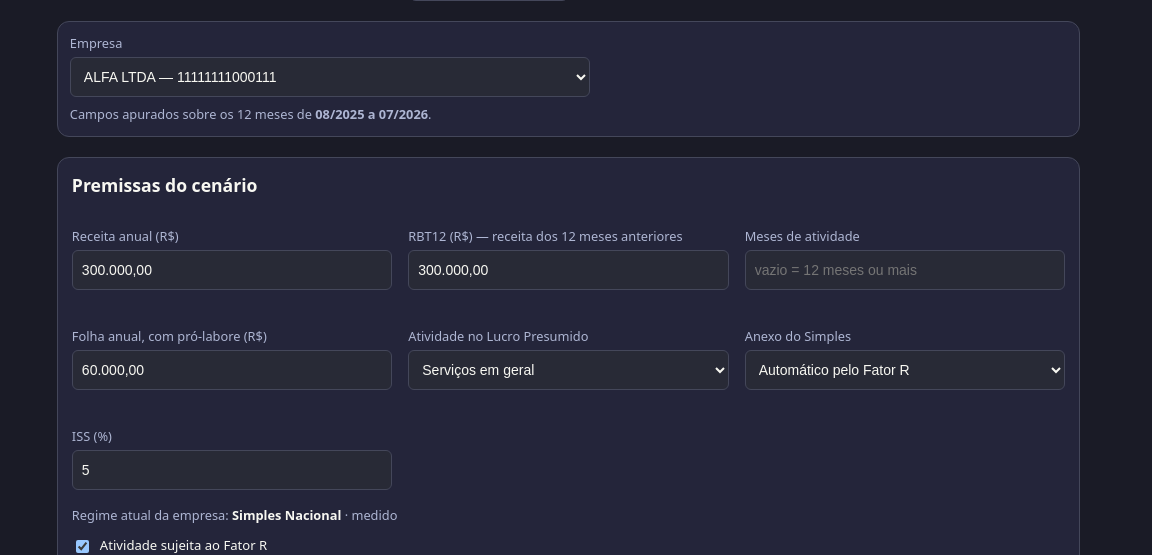
Test: usa ISS 5 sem valor cadastrado e reabre anexo manual e ISS editado
The width and height of the screenshot is (1152, 555).
Expected: the field showing "300.000,00" is shown, 72,250 -> 392,290
Expected: the field labelled "ISS (%)" holds "5", 72,450 -> 392,490
Select "Anexo IV — Serviços (§ 5º-C)" in the dropdown labelled "Anexo do Simples" at [905, 370], box 745,350 -> 1065,390
Type "4" into the field labelled "ISS (%)" at [232, 470], box 72,450 -> 392,490
(page scrolled)
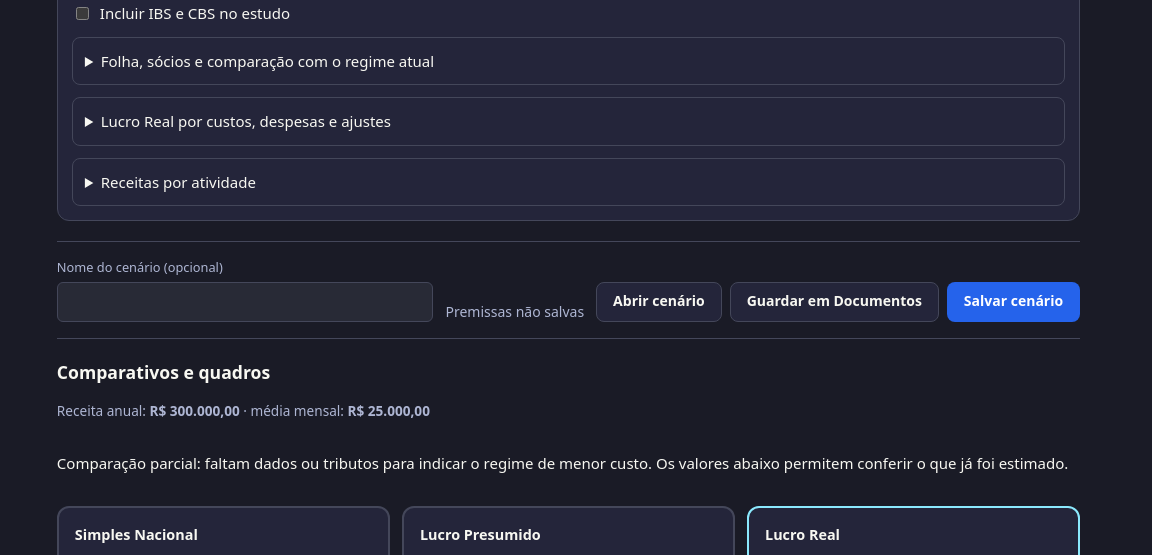
Click the button "Salvar cenário" at [1014, 302], box 947,282 -> 1080,322
(page scrolled)
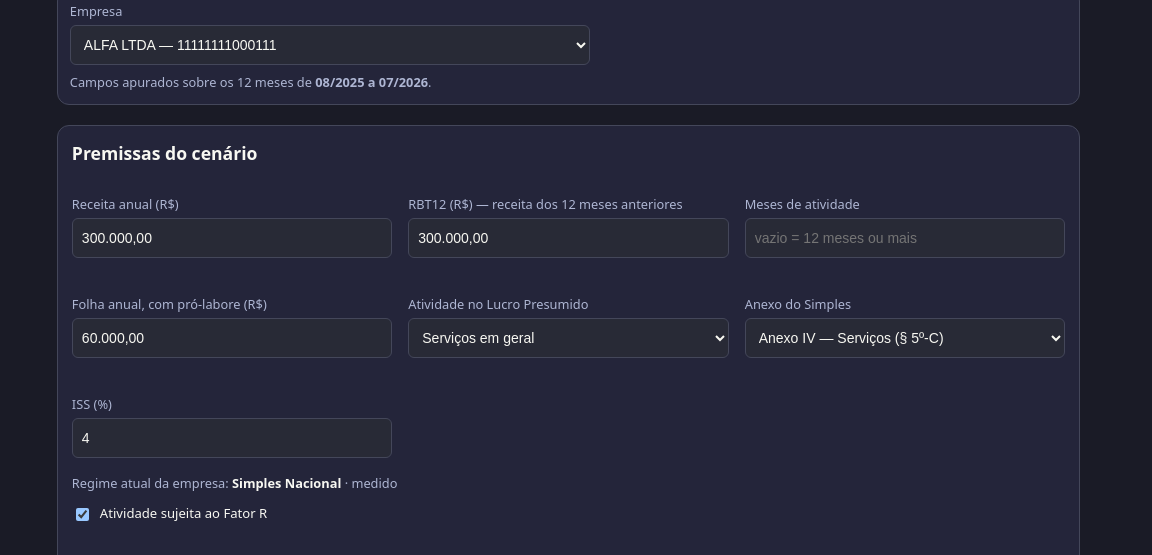
Select "Automático pelo Fator R" in the dropdown labelled "Anexo do Simples" at [905, 338], box 745,318 -> 1065,358
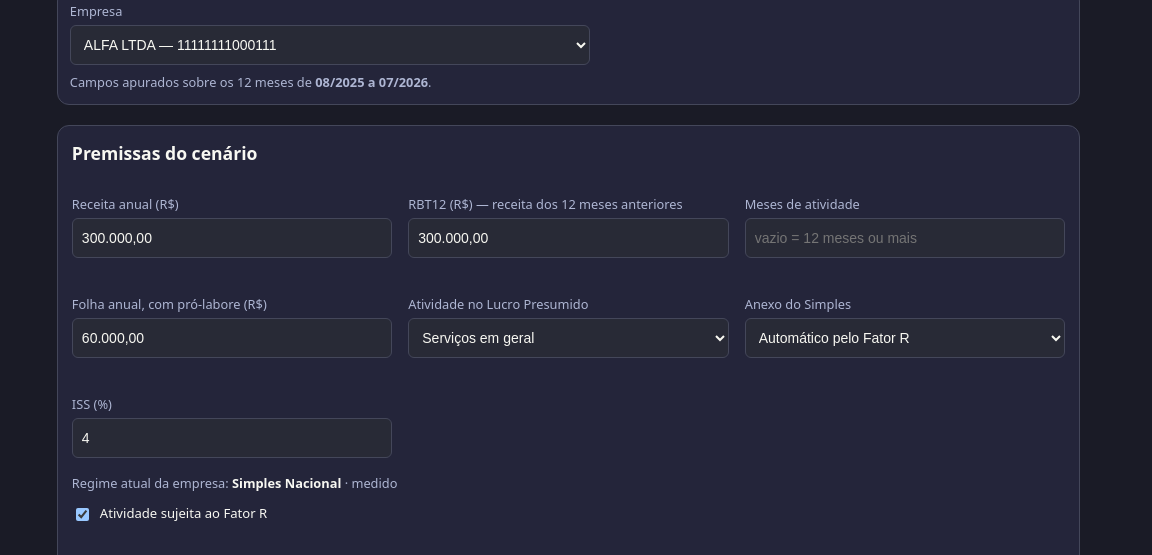
Replace the text in the field labelled "ISS (%)" with "2" at [232, 438], box 72,418 -> 392,458
(page scrolled)
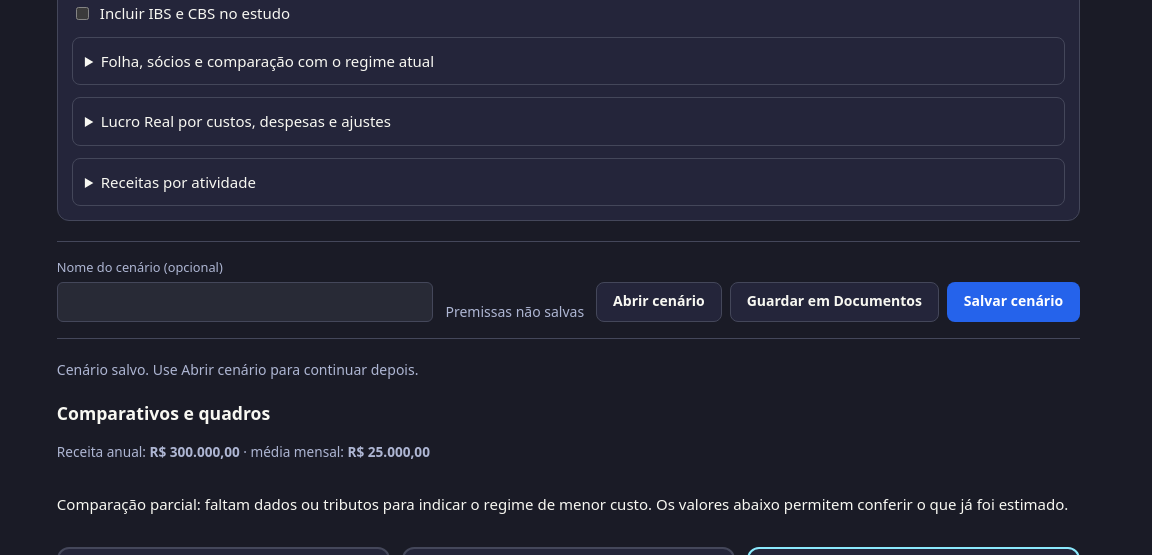
Click the button "Abrir cenário" at [659, 302], box 596,282 -> 722,322
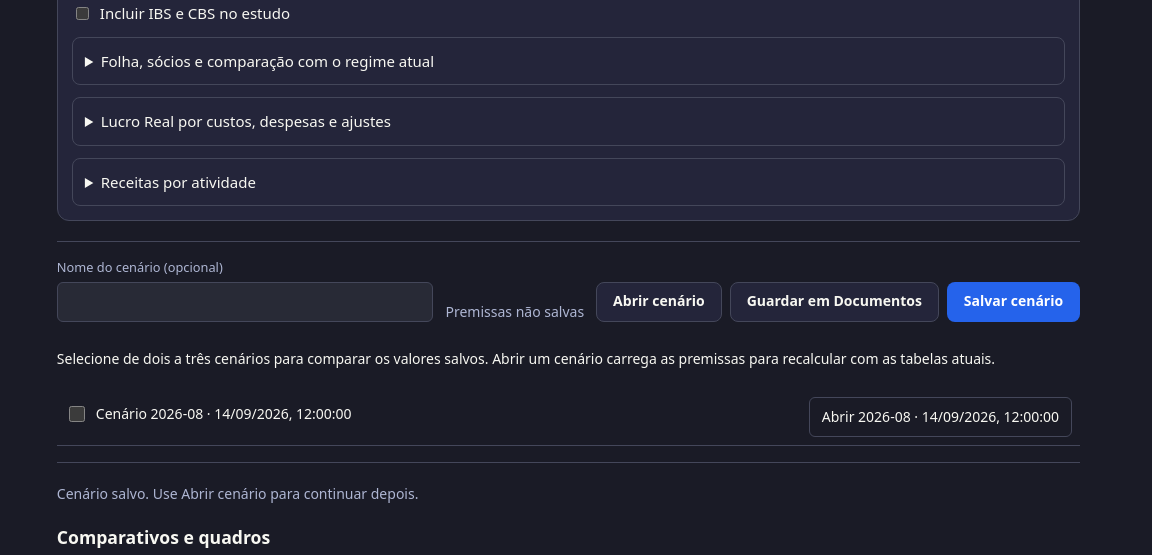
Click the button "Abrir 2026-08 · 14/09/2026, 12:00:00" at [940, 417], box 809,397 -> 1072,437
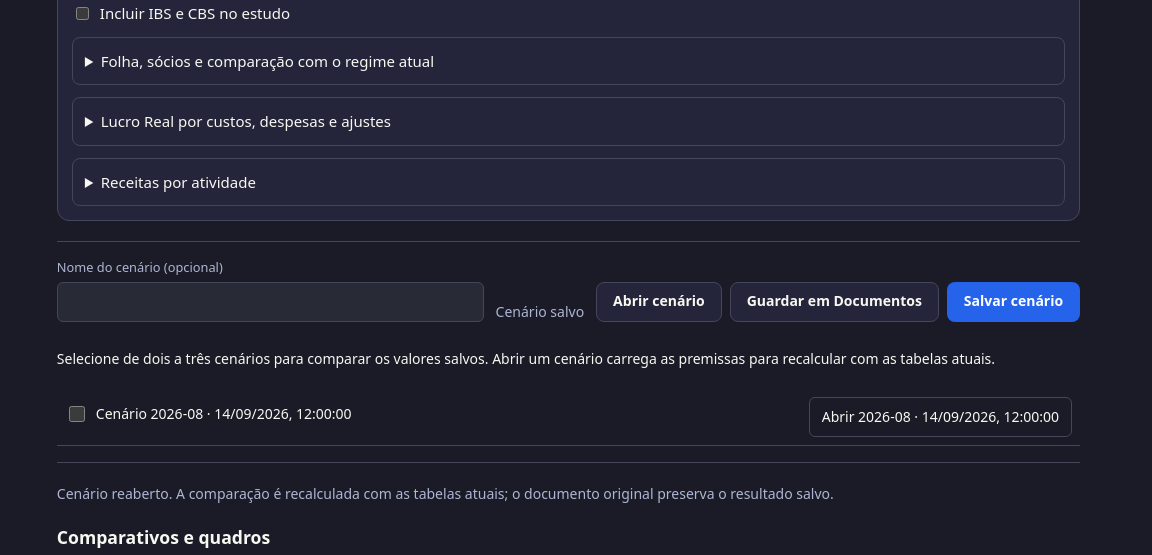
Expected: the text "Cenário salvo" is shown, 496,301 -> 584,322
